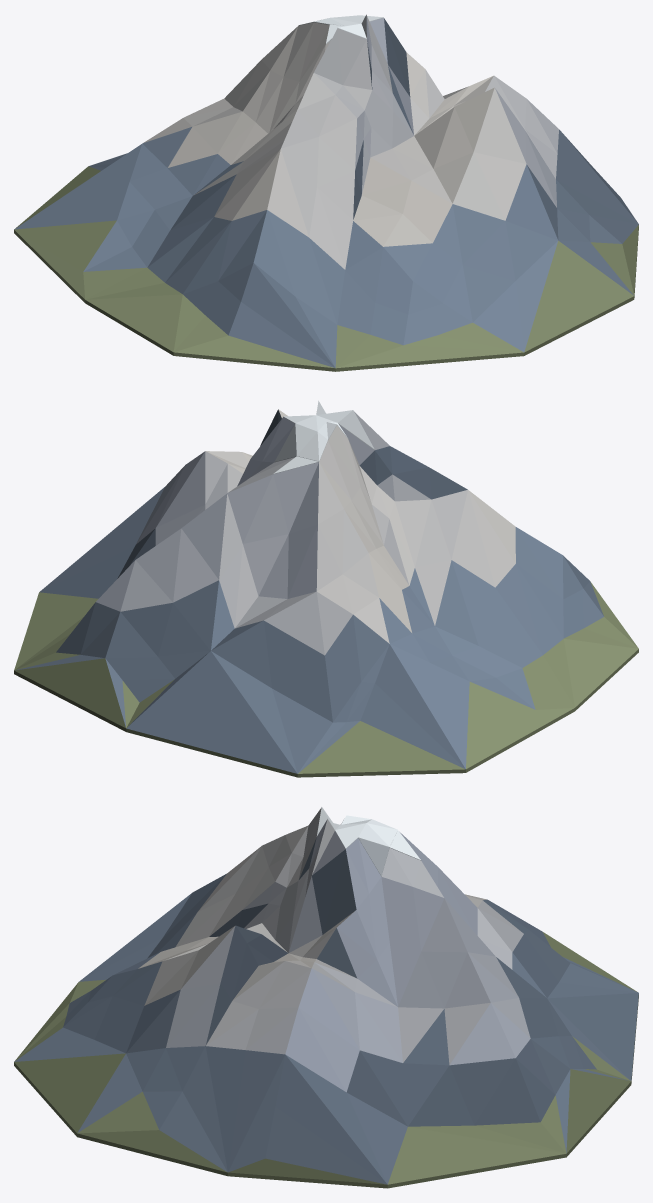
The model's file is massif_frost_crown_rim53.glb.
3 views of the same model, one above another, from view 1: azimuth 30°, elevation 25°; view 2: azimuth 150°, elevation 25°; view 3: azimuth 270°, elevation 25° (orthographic). The views are drawn at different scales.
Visible parts, largest first — view 1: rock_body, snow_cap; view 2: rock_body, snow_cap; view 3: rock_body, snow_cap, ridge_shoulders.
Part boxes in pixels (x1=…): rock_body: x1=14, y1=15, x2=638, y2=371; snow_cap: x1=298, y1=14, x2=383, y2=43; rock_body: x1=14, y1=409, x2=638, y2=777; snow_cap: x1=283, y1=400, x2=374, y2=461; rock_body: x1=14, y1=807, x2=638, y2=1188; snow_cap: x1=316, y1=807, x2=397, y2=848; ridge_shoulders: x1=358, y1=837, x2=420, y2=876.
Bounding box in the file's own units: 975 × 421 × 980.
